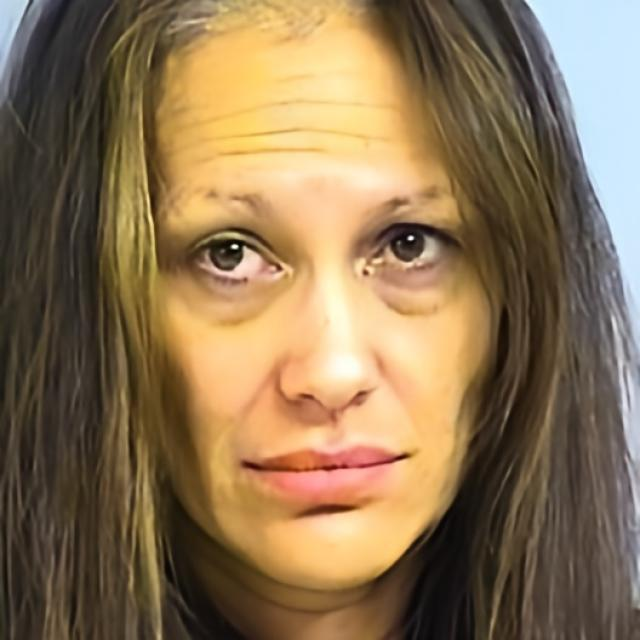sad: (140, 0, 510, 593)
